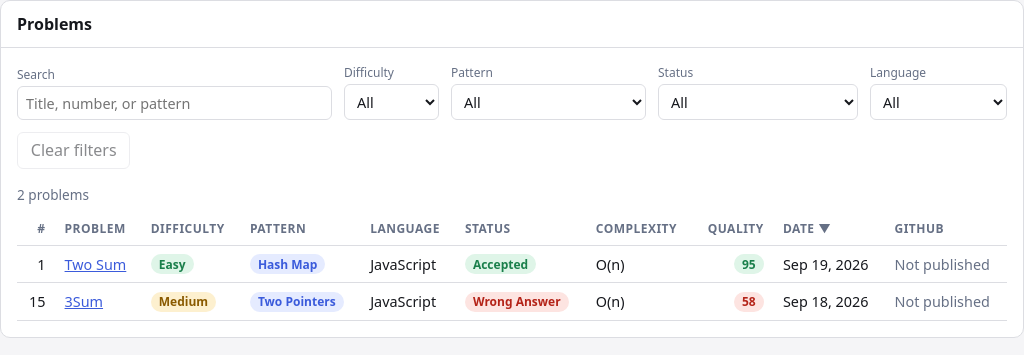
Test case: ProblemsPage › filters by difficulty through the API
Select "Medium" in the dropdown labelled "Difficulty": (392, 102) [344,84,439,120]
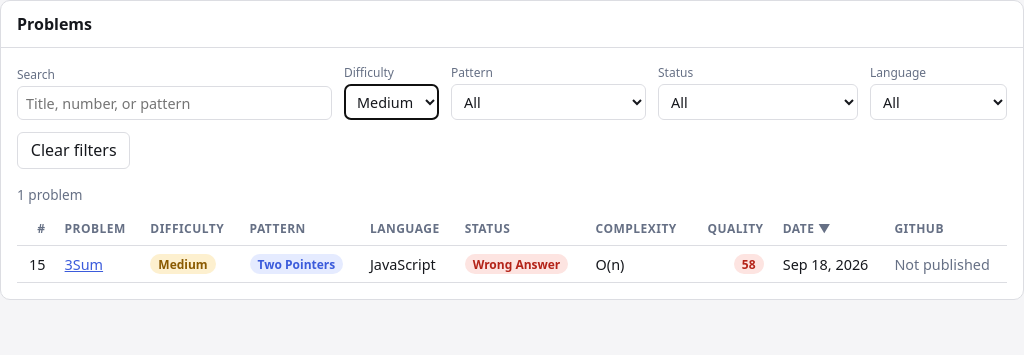
Expected: the link "3Sum" is shown, [65,254,103,274]
Expected: the number of rows with test id "problem-row" is 1, [17,245,1007,283]
Expected: the text "1 problem" is shown, [17,185,82,204]
